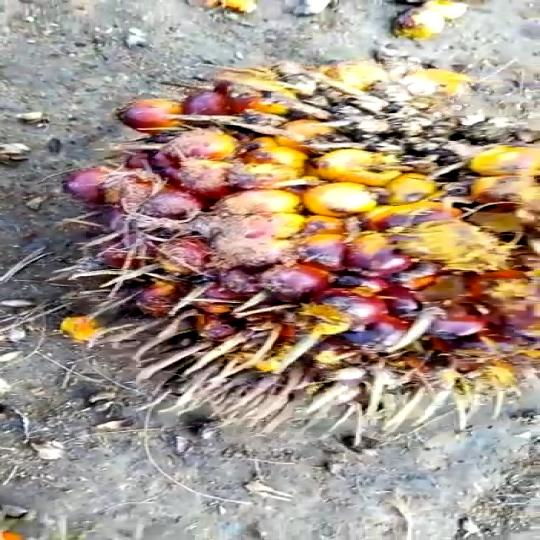masak: (47, 78, 540, 409)
